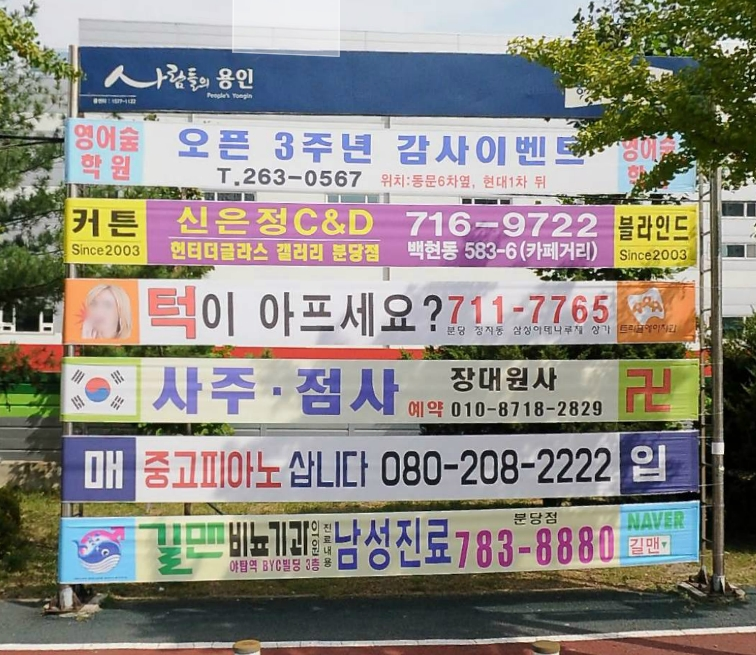banner: (56, 493, 728, 594), (61, 118, 698, 198), (50, 357, 703, 435), (58, 431, 714, 507), (54, 275, 708, 349), (59, 201, 711, 263)
